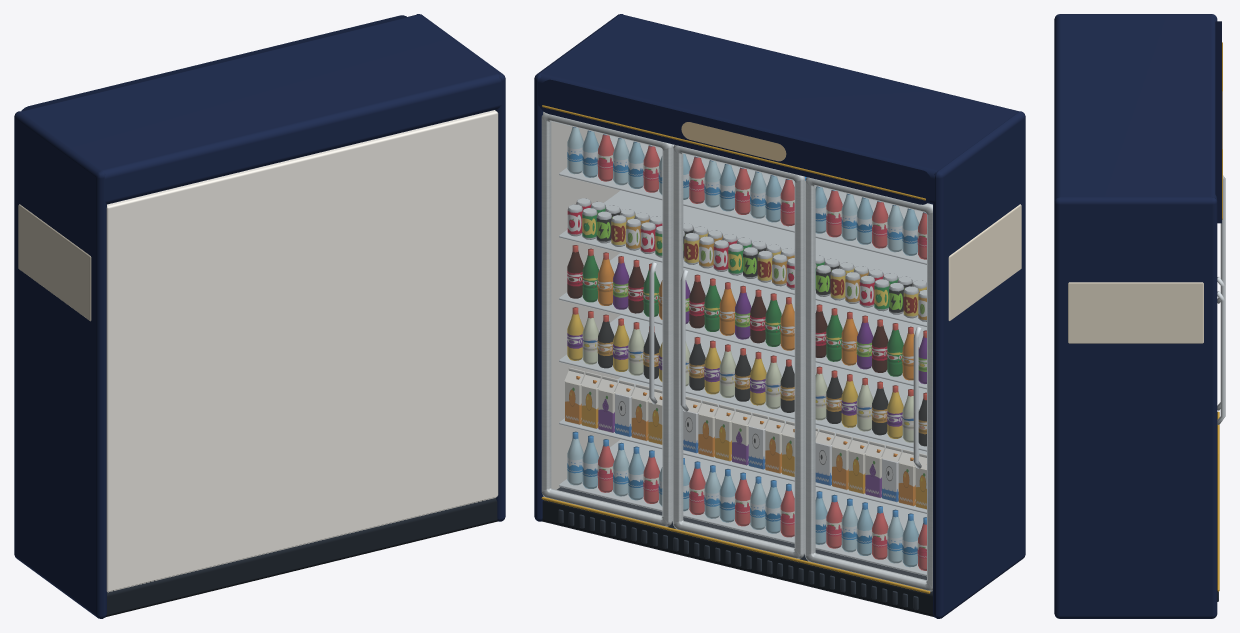
The model's file is drinks_T3.fbx.
3 views of the same model, side by side, from view 1: azimuth 30°, elevation 25°; view 2: azimuth 150°, elevation 25°; view 3: azimuth 270°, elevation 25° (orthographic). The views are drawn at different scales.
Parts seen in each view (by area): view 1: Body; view 2: Body, Anim Fill 0, Anim Fill 1, Anim Fill 2, Anim Fill 3; view 3: Body.
Boxes of the visible parts, box(x1,y1,x2,y2) form: Body: box(14, 14, 505, 618); Body: box(534, 14, 1025, 618); Anim Fill 0: box(564, 127, 662, 503); Anim Fill 1: box(658, 154, 766, 529); Anim Fill 2: box(748, 175, 857, 552); Anim Fill 3: box(845, 197, 926, 570); Body: box(1054, 14, 1225, 618).
Bounding box in the file's own units: 1.98 × 2.05 × 0.756.
